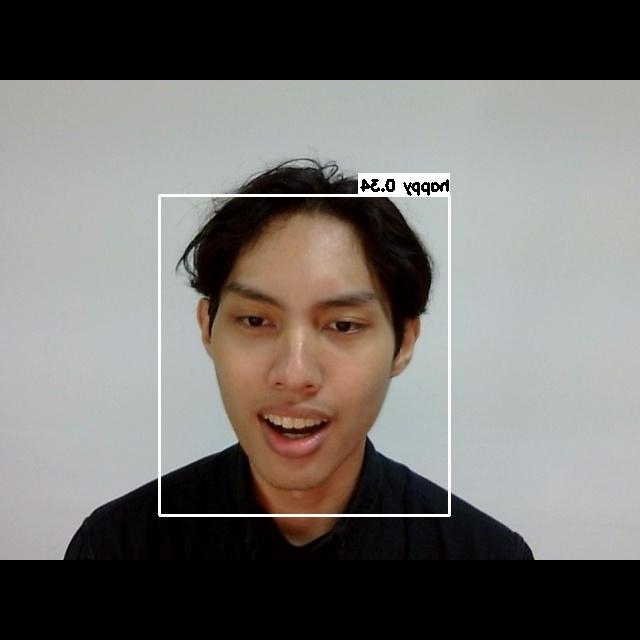Surprised: (199, 259, 406, 474)
